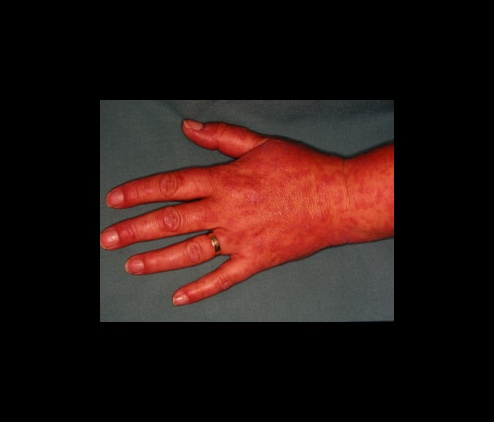SJS-TEN: (192, 110, 420, 287)
